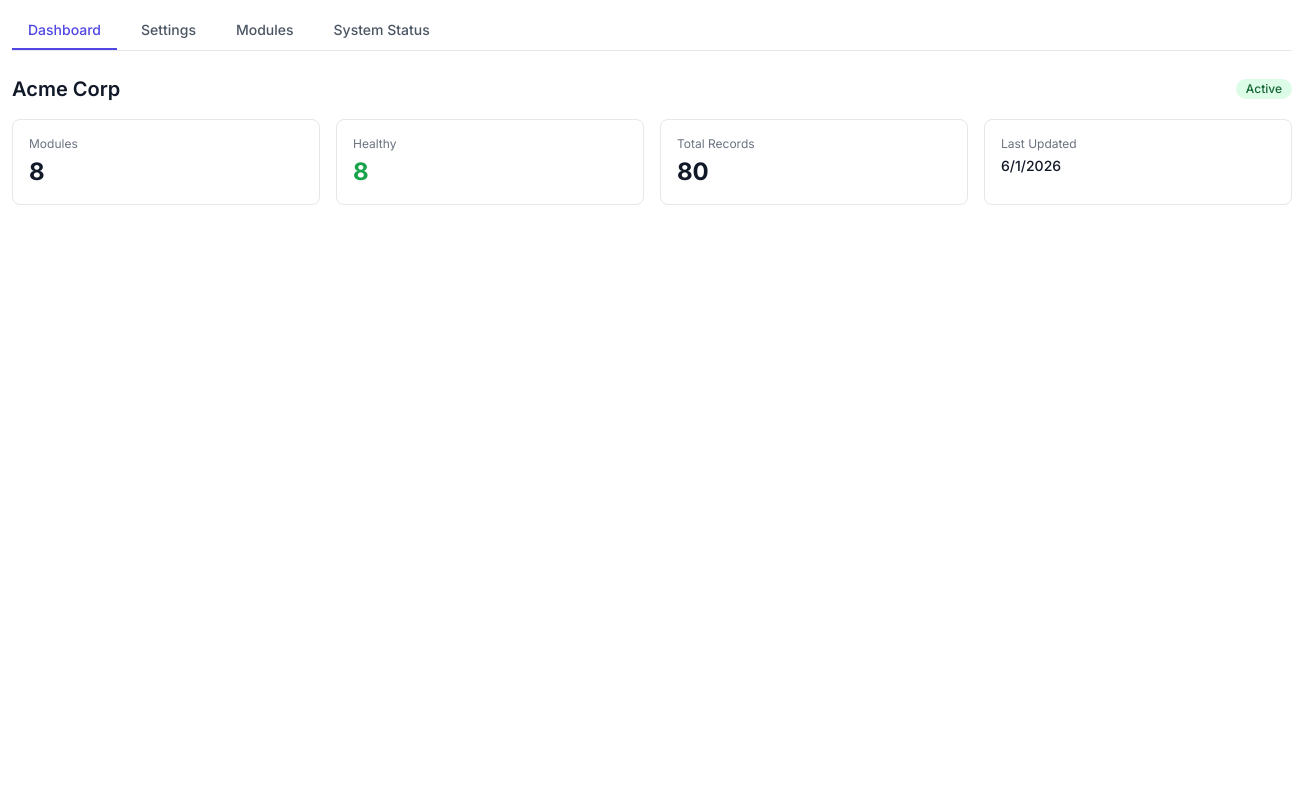
Scenario: AdminCenter › clicking status tab shows status panel
Click the button with test id "tab-status".
click(382, 31)  # box [318,12,446,50]
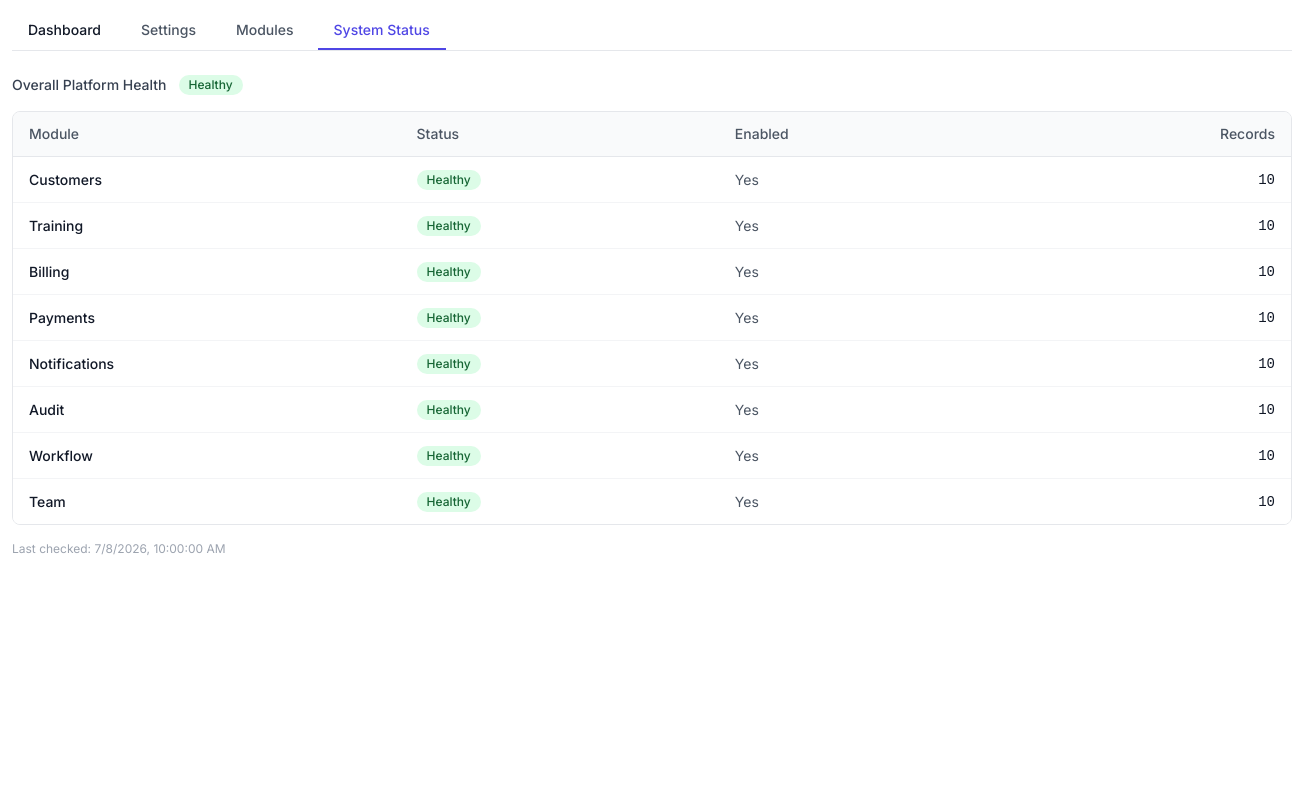
Expected: the element with test id "panel-status" is shown, [12,75,1291,557]
